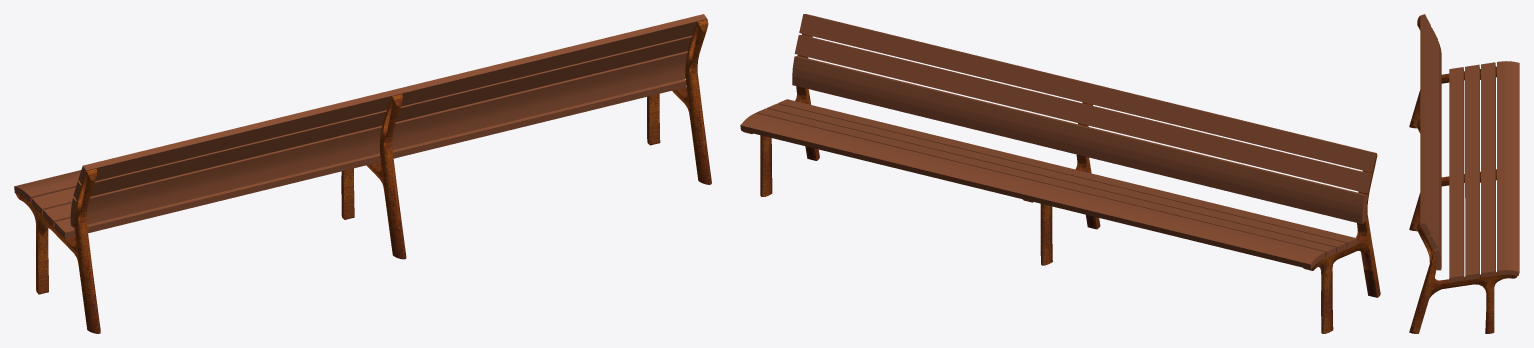
3 renders of one model, left to right at view 1: azimuth 30°, elevation 25°; view 2: azimuth 150°, elevation 25°; view 3: azimuth 270°, elevation 25°, orthographic. The views are drawn at different scales.
Visible parts, largest first — view 1: mesh10_mesh10-geometry, mesh12_mesh12-geometry, mesh1_mesh1-geometry; view 2: mesh10_mesh10-geometry, mesh12_mesh12-geometry, mesh1_mesh1-geometry; view 3: mesh10_mesh10-geometry, mesh12_mesh12-geometry, mesh1_mesh1-geometry.
Part boxes in pixels (x1,y1,x2,y2): mesh10_mesh10-geometry: (31, 14, 706, 238); mesh12_mesh12-geometry: (14, 51, 687, 227); mesh1_mesh1-geometry: (15, 19, 711, 333); mesh10_mesh10-geometry: (756, 14, 1376, 257); mesh12_mesh12-geometry: (740, 56, 1367, 269); mesh1_mesh1-geometry: (742, 34, 1380, 333); mesh10_mesh10-geometry: (1420, 14, 1495, 282); mesh12_mesh12-geometry: (1433, 41, 1519, 275); mesh1_mesh1-geometry: (1409, 16, 1517, 333).
Bounding box in the file's own units: 0.9485 × 0.2356 × 0.2118.
